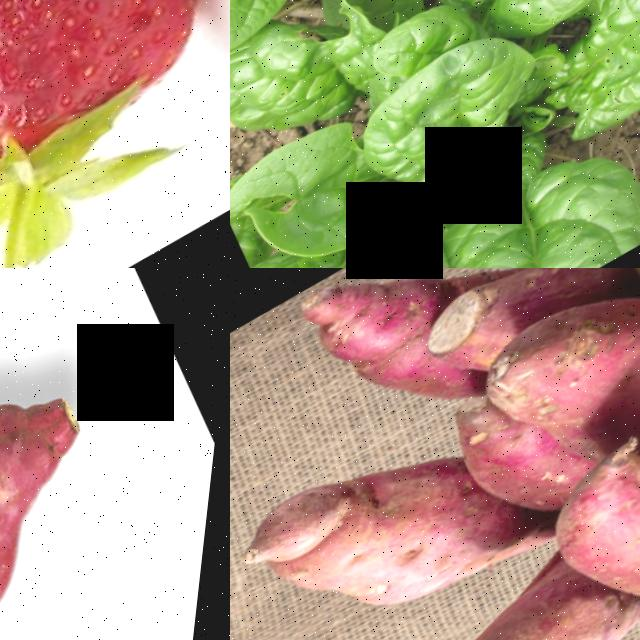spinach: (355, 25, 567, 215), (230, 113, 421, 268), (427, 130, 640, 268), (230, 0, 386, 174), (522, 0, 640, 153), (277, 214, 495, 268), (230, 0, 328, 84)
strawberry: (0, 0, 230, 239)
sweet potato: (230, 390, 569, 640), (0, 305, 172, 640), (461, 268, 640, 497), (527, 406, 640, 640), (397, 561, 630, 640)
